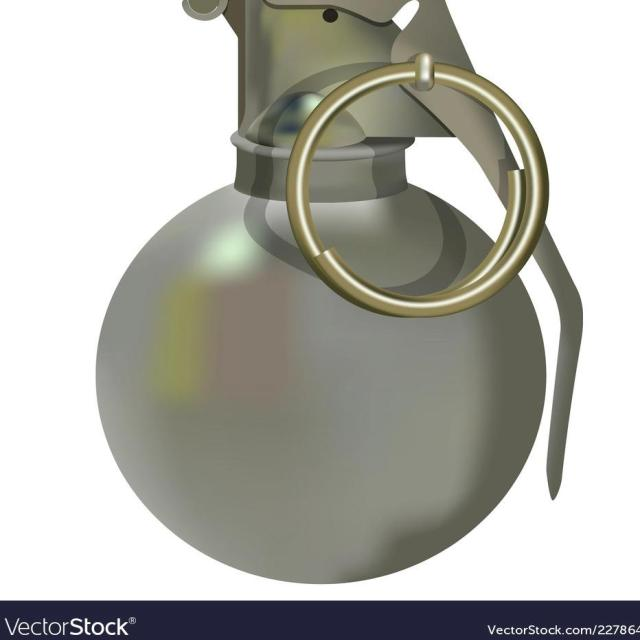grenade: (96, 1, 587, 585)
